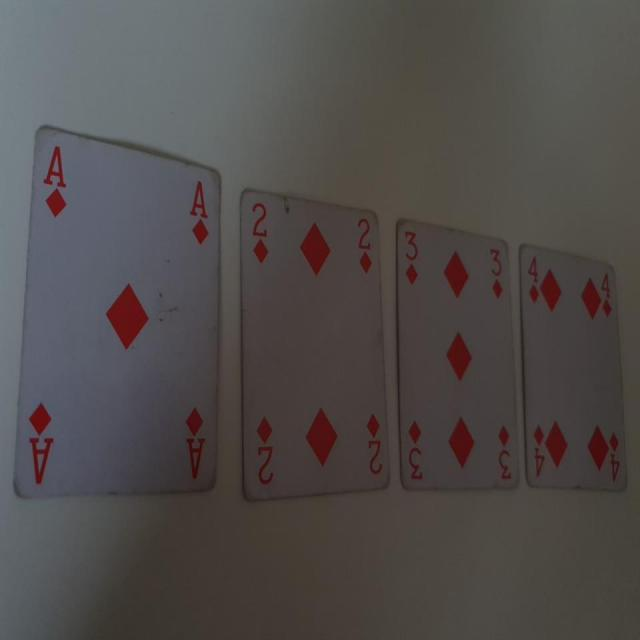2 Diamonds: (235, 186, 392, 501)
3 Diamonds: (396, 222, 521, 492)
4 Diamonds: (520, 245, 636, 495)
A Diamonds: (15, 124, 226, 502)
